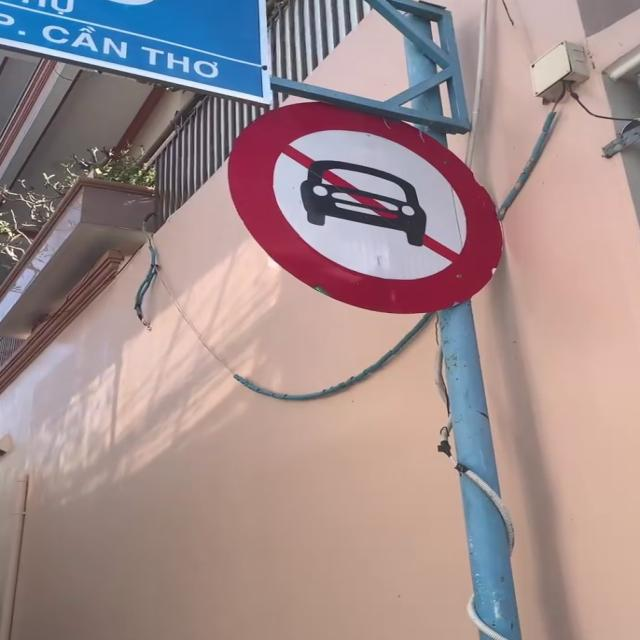Cam_O_To: (234, 102, 504, 311)
